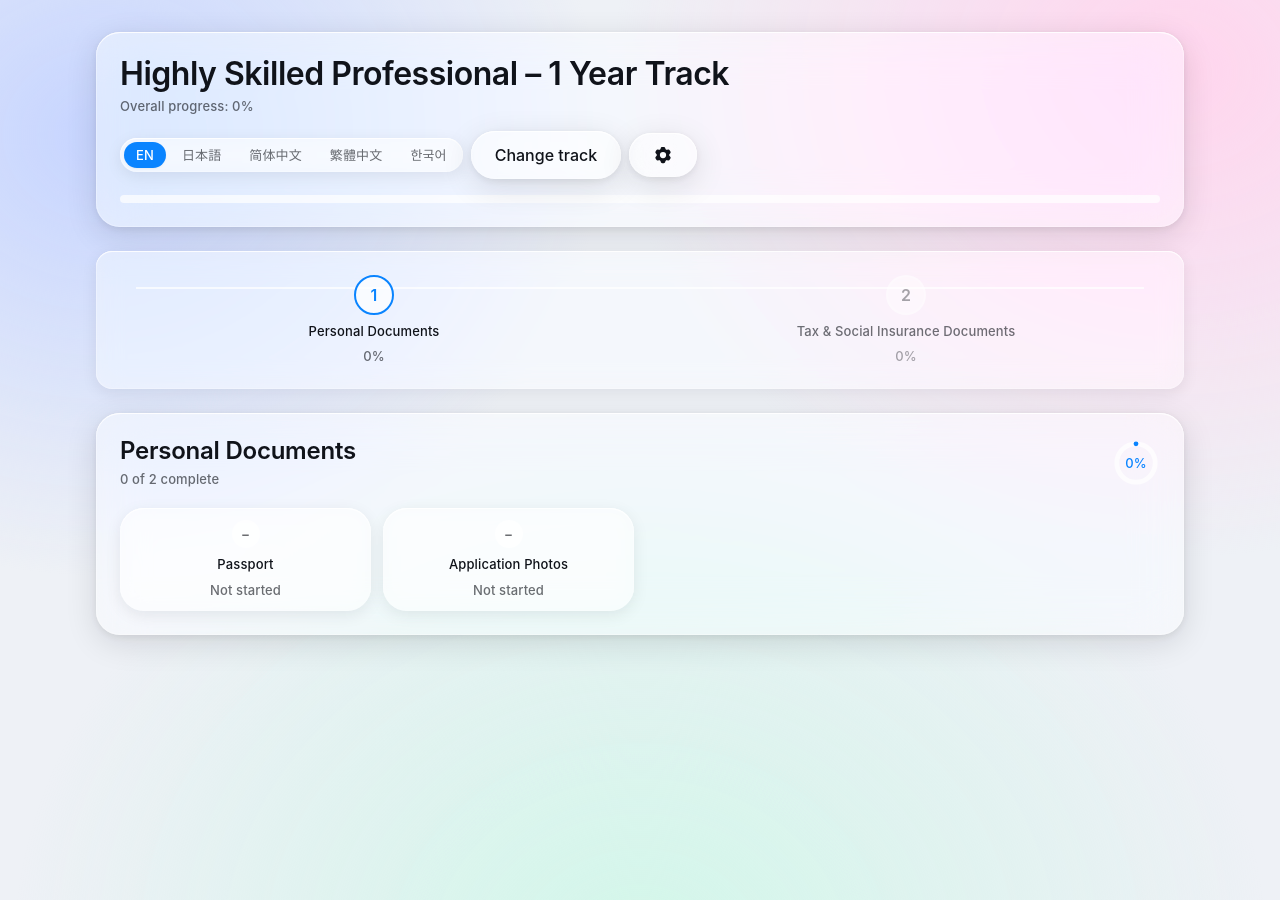
it: QuestMapPage – status visualization (7.2) › document panel can be closed via the close button
Click the button with test id "doc-item-passport": [246, 560] box [120,508,371,611]
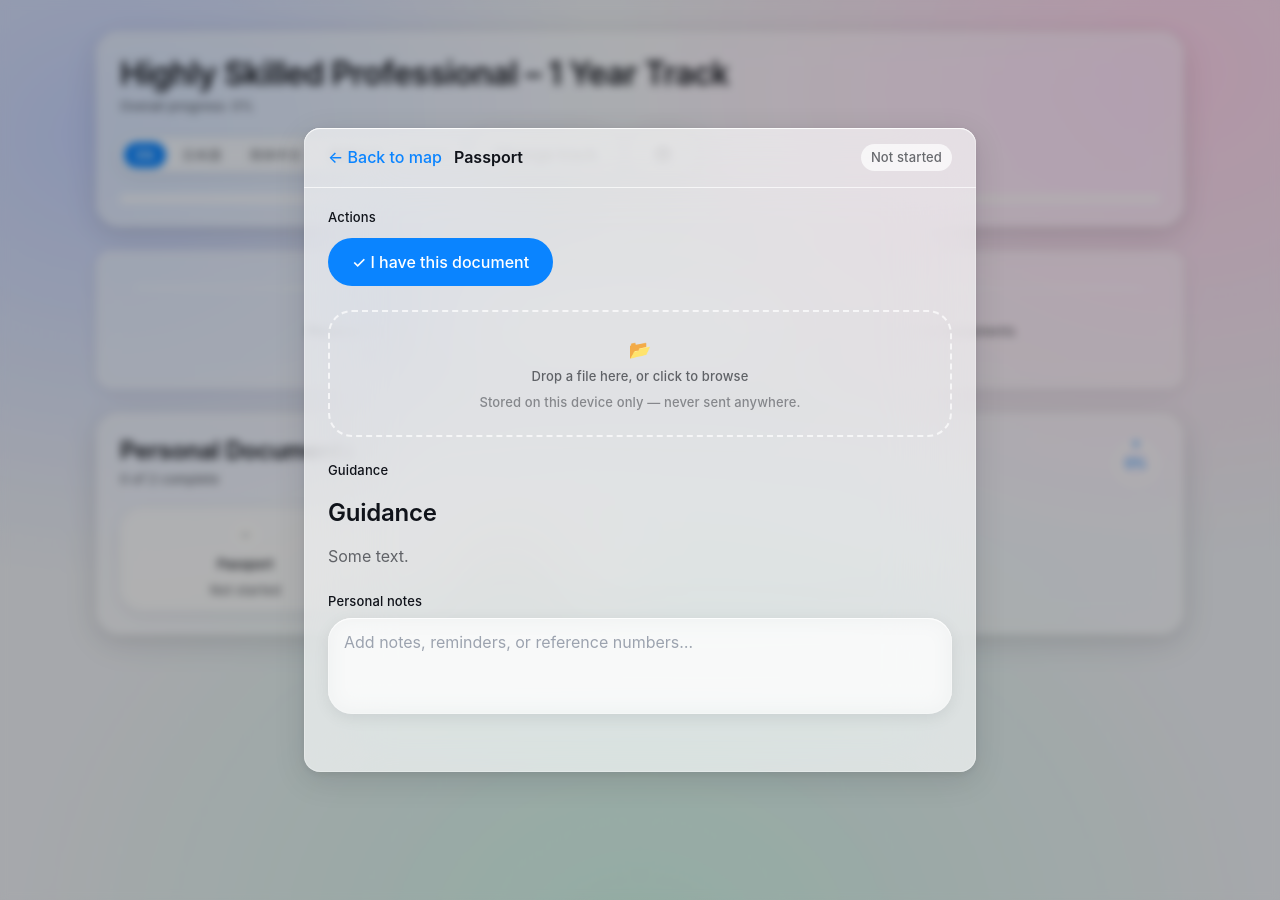
Expected: the dialog with test id "document-panel" is shown
Click the button with test id "panel-close-btn": [385, 157] box [328,145,442,169]
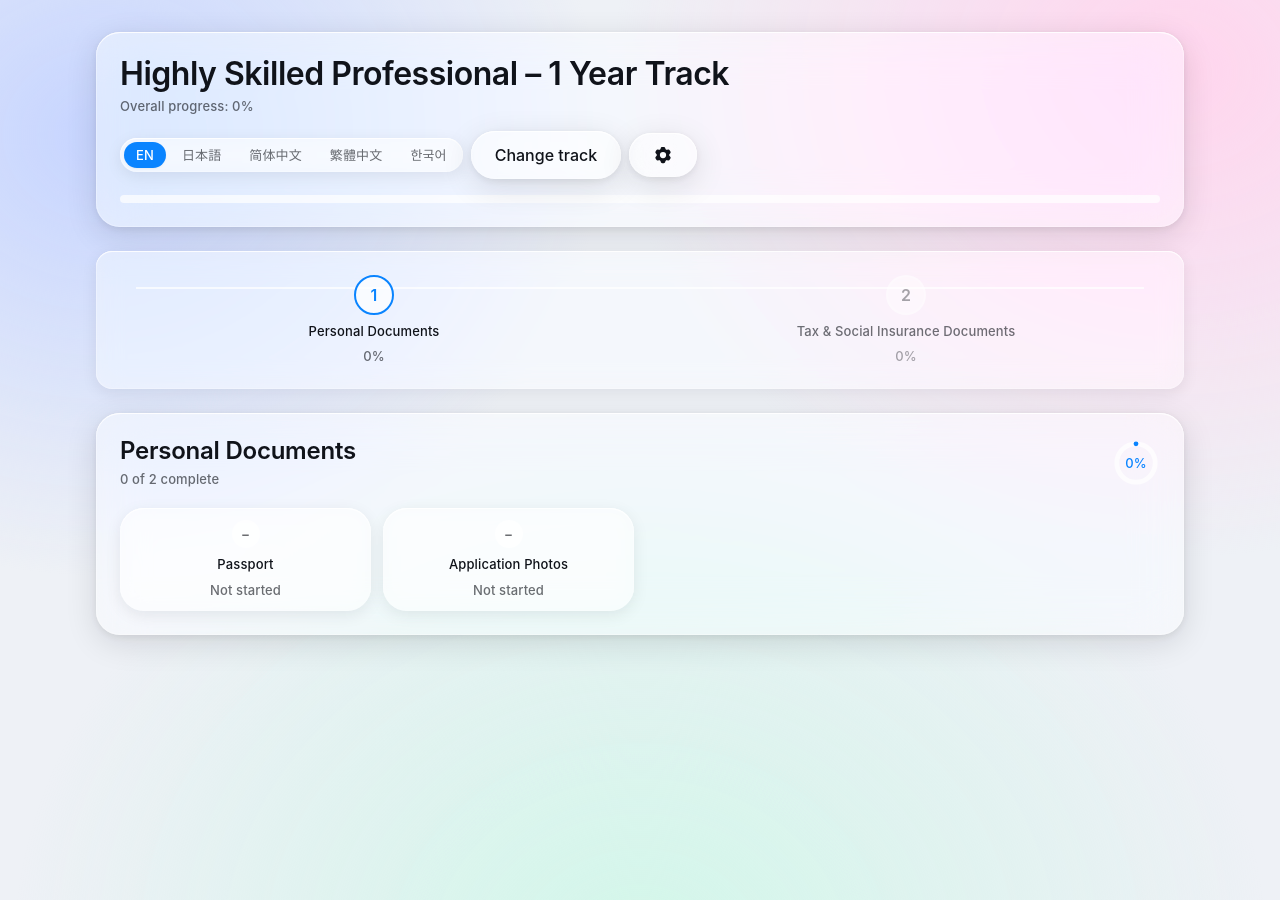
Expected: the dialog with test id "document-panel" is gone
